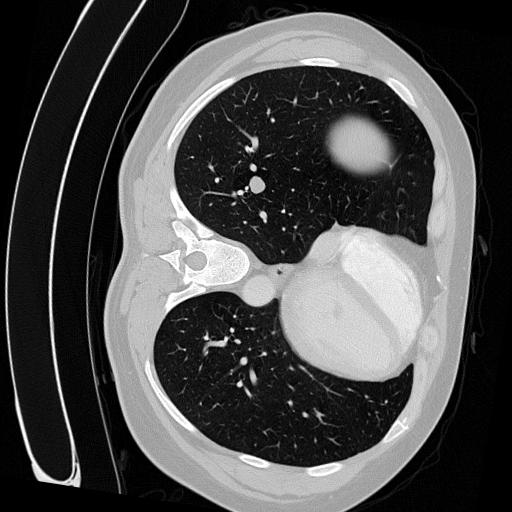nodule: (245, 173, 270, 198)
